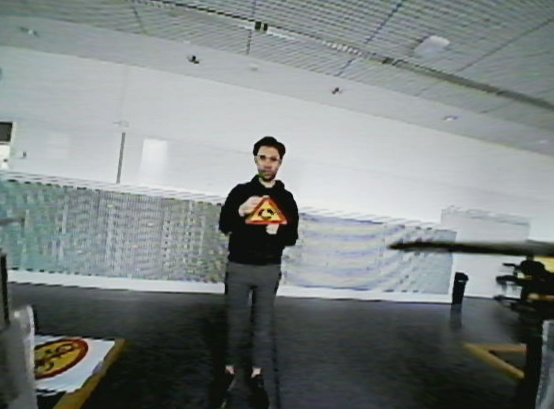roundabout_warning: (240, 193, 291, 230)
